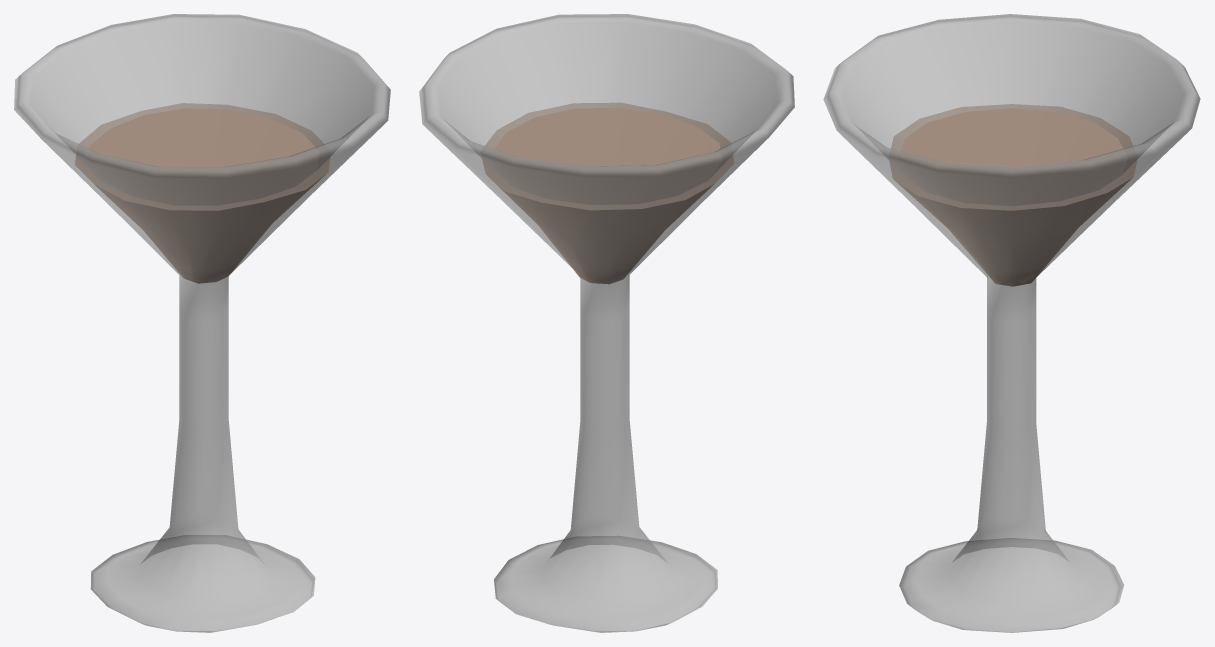
Rendered from martiniglasss.fbx.
3 renders of one model, left to right at view 1: azimuth 30°, elevation 25°; view 2: azimuth 150°, elevation 25°; view 3: azimuth 270°, elevation 25°, orthographic.
Parts seen in each view (by area): view 1: pCube14, pPlane1; view 2: pCube14, pPlane1; view 3: pCube14, pPlane1.
Part boxes in pixels (x1,y1,x2,y2): pCube14: (14, 14, 390, 632); pPlane1: (74, 103, 330, 283); pCube14: (419, 14, 794, 632); pPlane1: (481, 102, 734, 284); pCube14: (823, 14, 1200, 632); pPlane1: (889, 104, 1137, 286).
Size of the model in its own units: 0.8759 by 1.29 by 0.8803.
